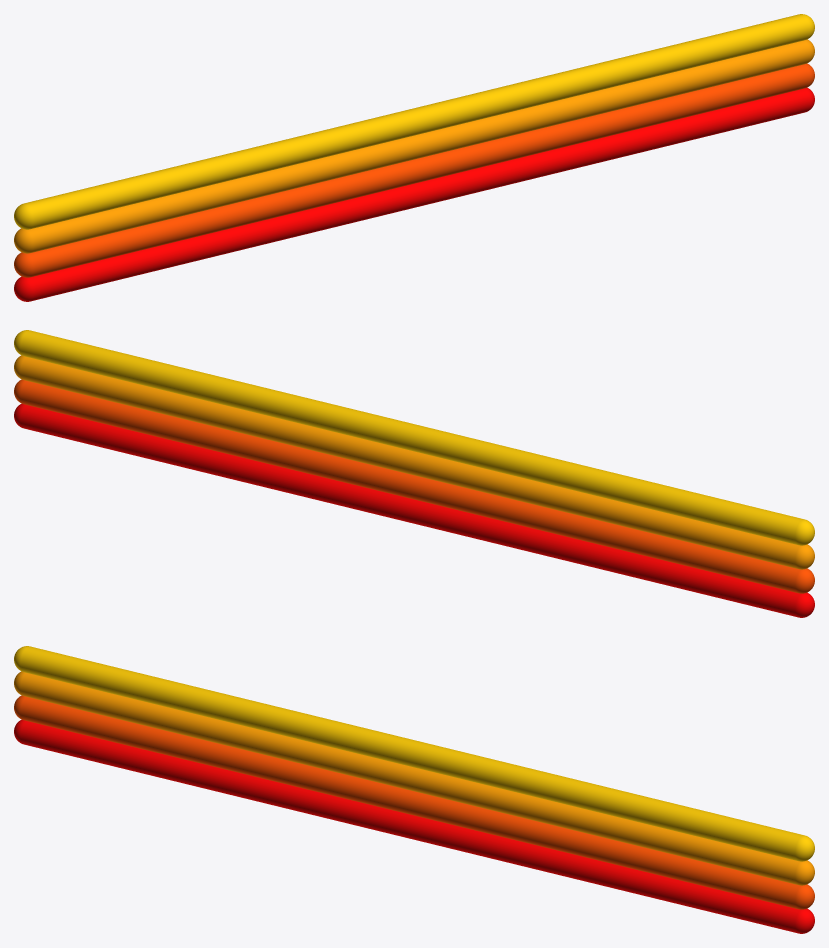
File: mid wall.fbx
3 renders of one model, top to bottom at view 1: azimuth 30°, elevation 25°; view 2: azimuth 150°, elevation 25°; view 3: azimuth 330°, elevation 25°, orthographic.
Parts seen in each view (by area): view 1: midwall; view 2: midwall; view 3: midwall.
Boxes of the visible parts, x1,y1,x2,y2 form: midwall: (14, 14, 814, 301); midwall: (14, 330, 814, 617); midwall: (14, 646, 814, 933).
Size of the model in its own units: 7425 by 858 by 215.
